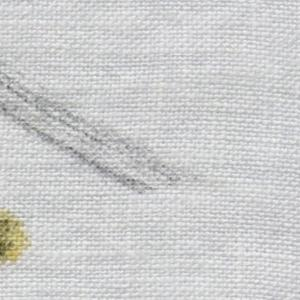Oil Stain: (1, 208, 34, 270)
Stain: (1, 66, 205, 203)
